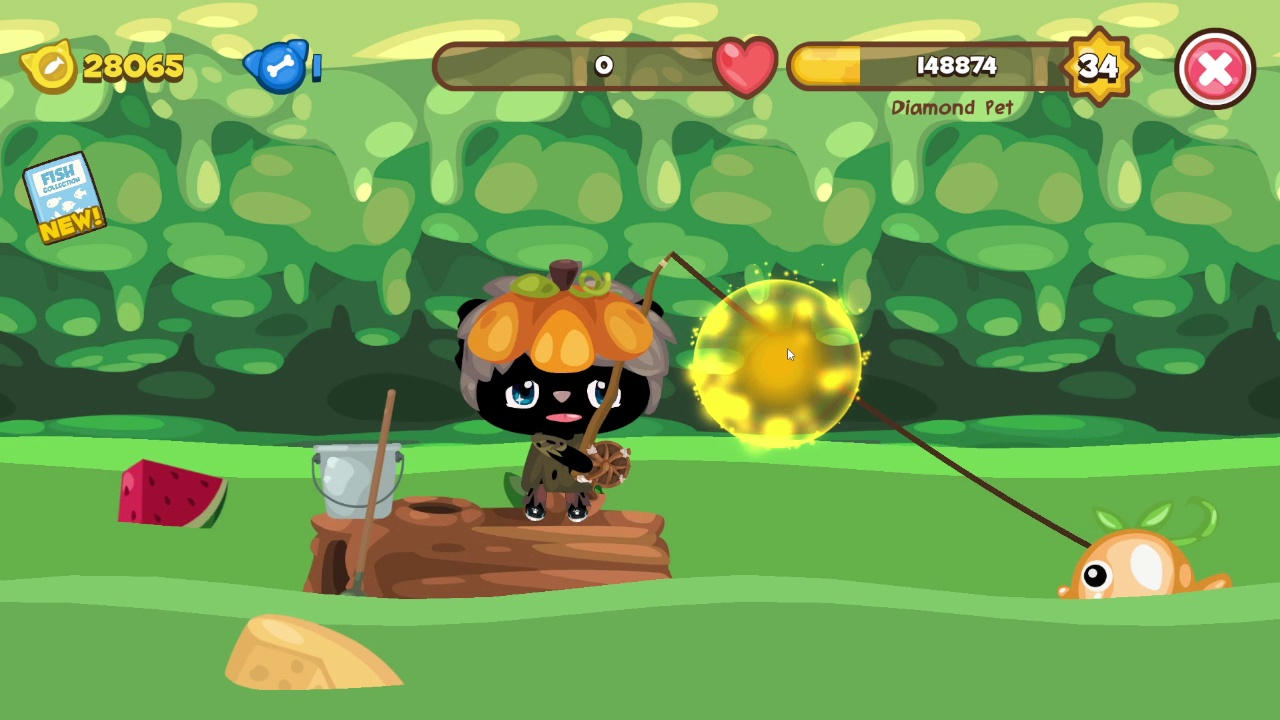point: (691, 276, 869, 449)
